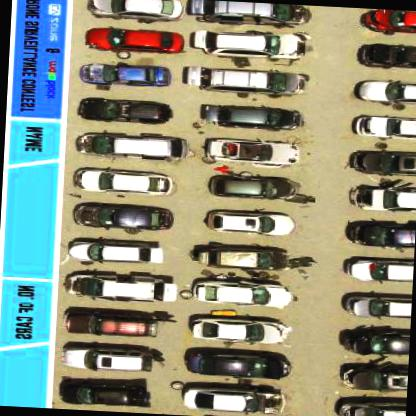car: (180, 66, 307, 97), (189, 29, 299, 62), (64, 272, 182, 302), (170, 383, 282, 414), (184, 347, 288, 380), (188, 0, 310, 28), (73, 201, 175, 233), (74, 131, 186, 160), (187, 242, 293, 271), (74, 166, 175, 196), (58, 376, 150, 408), (63, 308, 158, 338), (190, 318, 289, 346), (336, 356, 408, 394), (76, 98, 170, 127), (85, 26, 182, 54), (190, 282, 294, 308), (199, 104, 302, 130), (68, 238, 163, 266), (60, 346, 154, 374), (206, 174, 298, 202), (338, 325, 409, 361), (204, 138, 300, 164), (344, 218, 415, 253), (203, 210, 297, 236), (80, 63, 168, 90), (340, 291, 410, 324), (349, 181, 415, 215), (91, 0, 184, 23), (342, 255, 412, 285), (352, 77, 415, 110), (347, 148, 415, 178), (351, 112, 415, 142), (357, 42, 415, 74), (357, 8, 415, 38), (336, 403, 406, 415)
